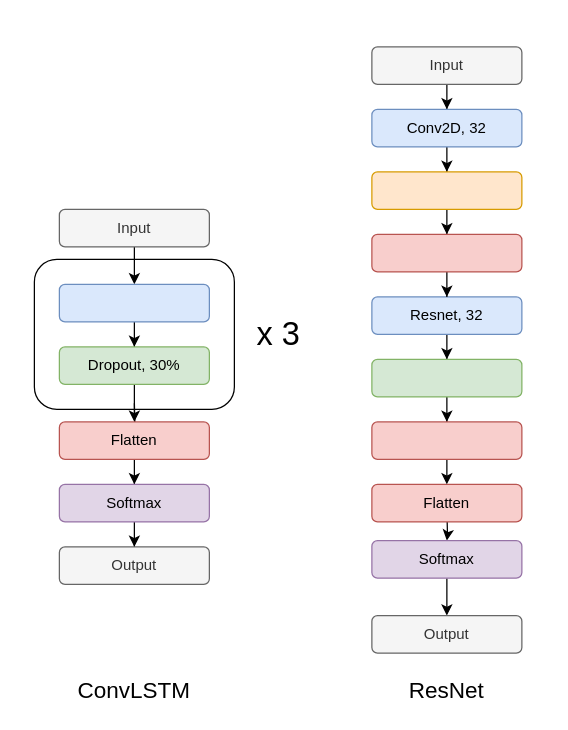
This 568x730 diagram has some shape labels left out. Here are the shapes that lost their labels. From the top down, the centre of each, then its label:
(x=446, y=190): BatchNormalisation
(x=446, y=252): MaxPooling2D
(x=133, y=302): ConvLSTM2D, 128
(x=446, y=377): Dropout, 10%
(x=446, y=440): AvgPooling2D
